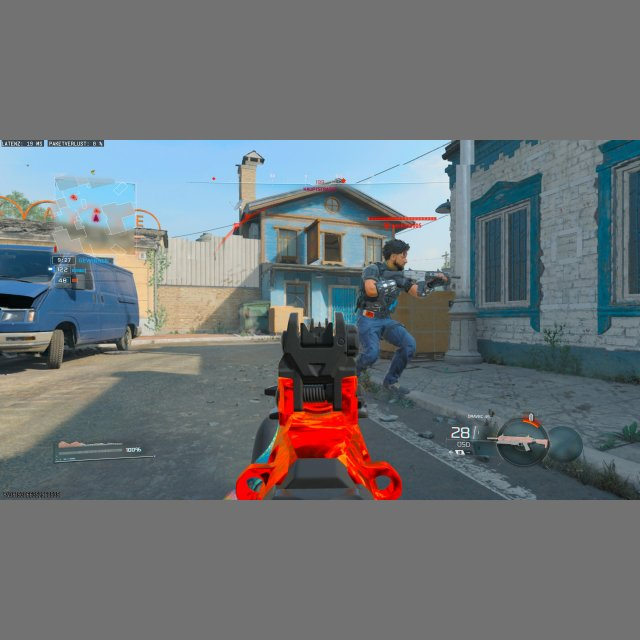head: (382, 239, 409, 269)
player: (354, 239, 449, 403)
